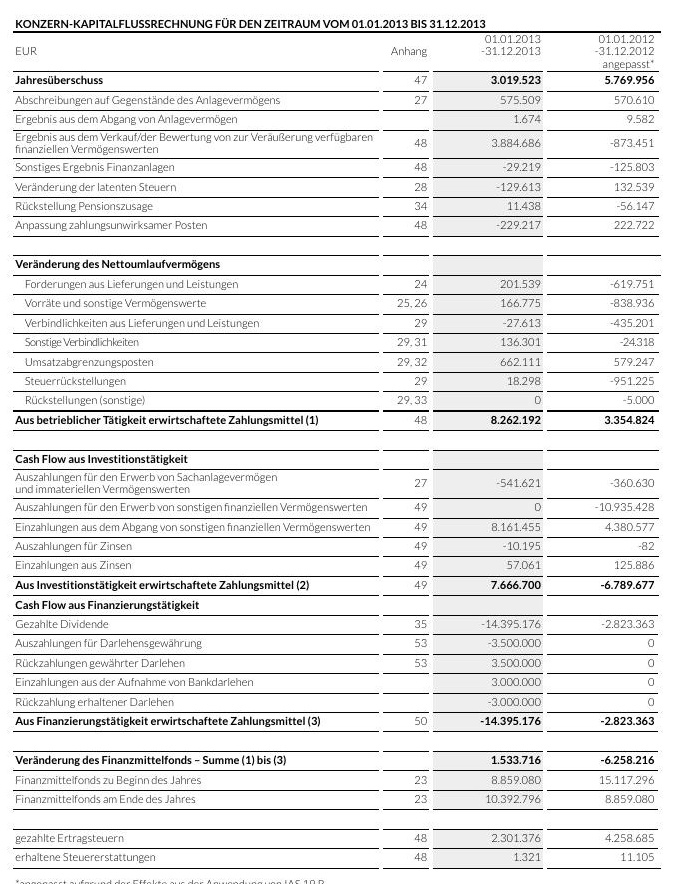table: (0, 0, 673, 884)
